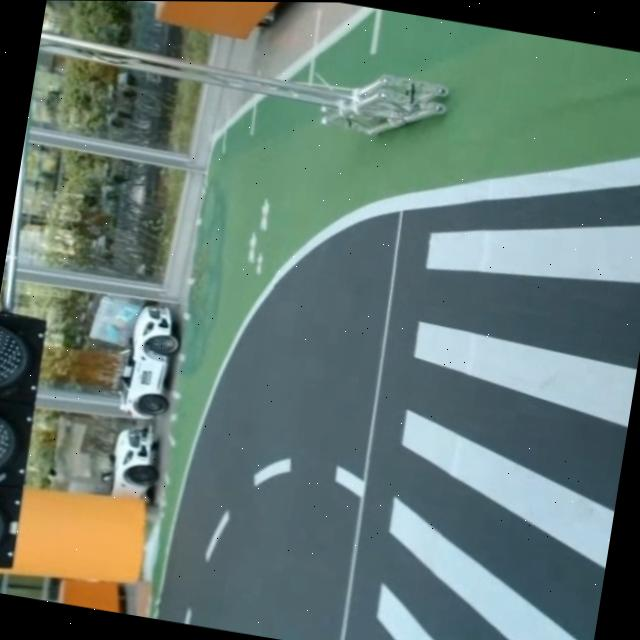traffic-light: (0, 302, 54, 593)
